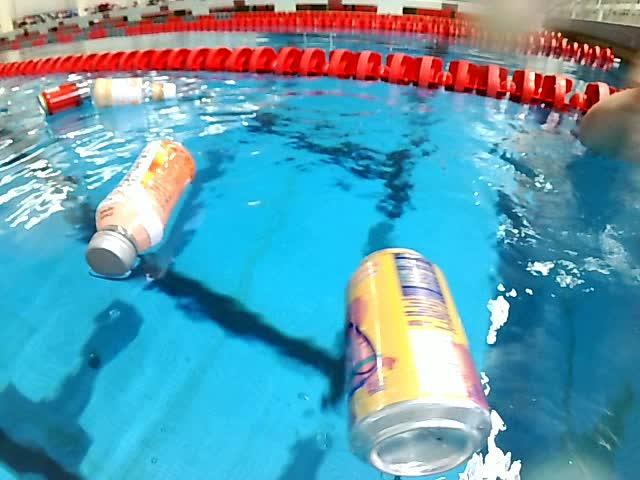Bottle: (79, 137, 202, 281), (88, 74, 188, 108)
Can: (336, 243, 496, 480), (34, 75, 95, 122)
